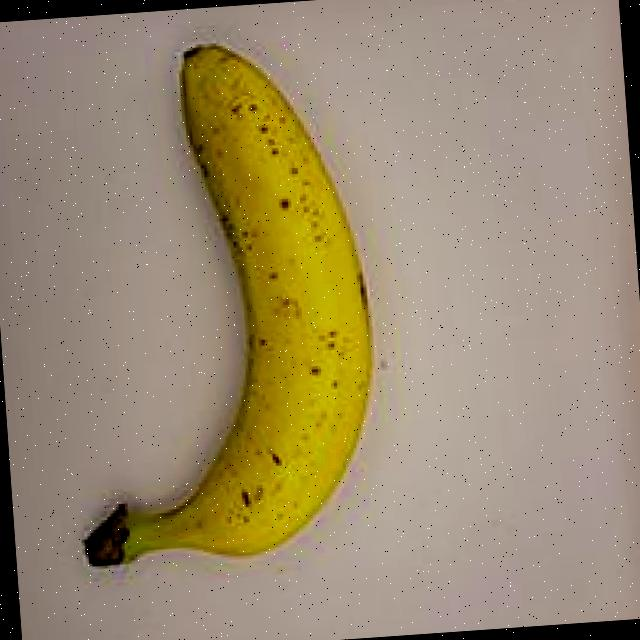Overripe: (29, 7, 438, 594)
